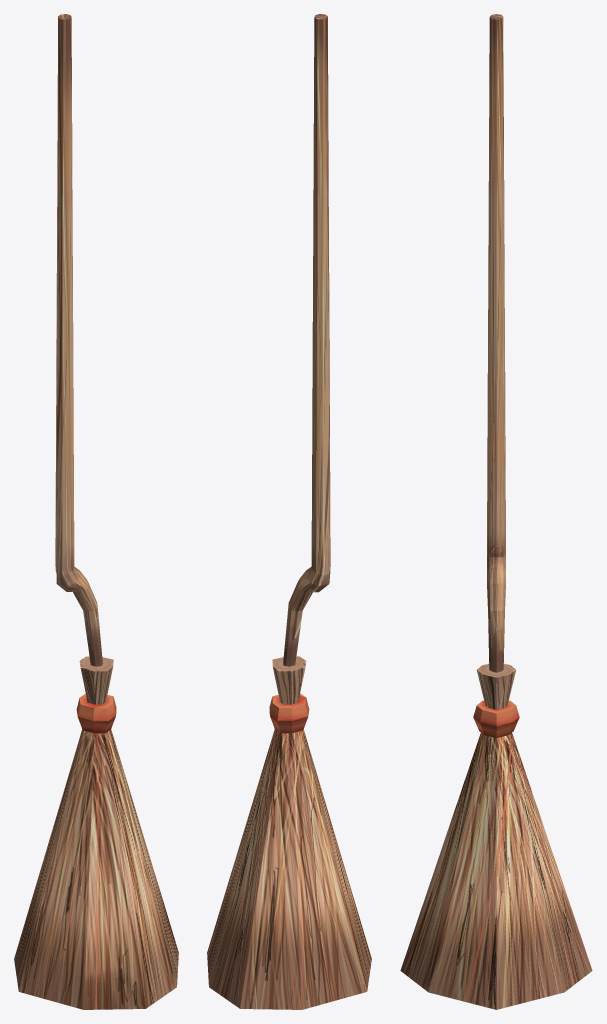
File: broom.fbx
3 views of the same model, side by side, from view 1: azimuth 30°, elevation 25°; view 2: azimuth 150°, elevation 25°; view 3: azimuth 270°, elevation 25° (orthographic). The views are drawn at different scales.
Parts seen in each view (by area): view 1: vassoura; view 2: vassoura; view 3: vassoura.
Part boxes in pixels (x1,y1,x2,y2): vassoura: (14,14,178,1009); vassoura: (207,14,371,1009); vassoura: (400,14,592,1009).
Size of the model in its own units: 16.19 by 93.08 by 17.26.
